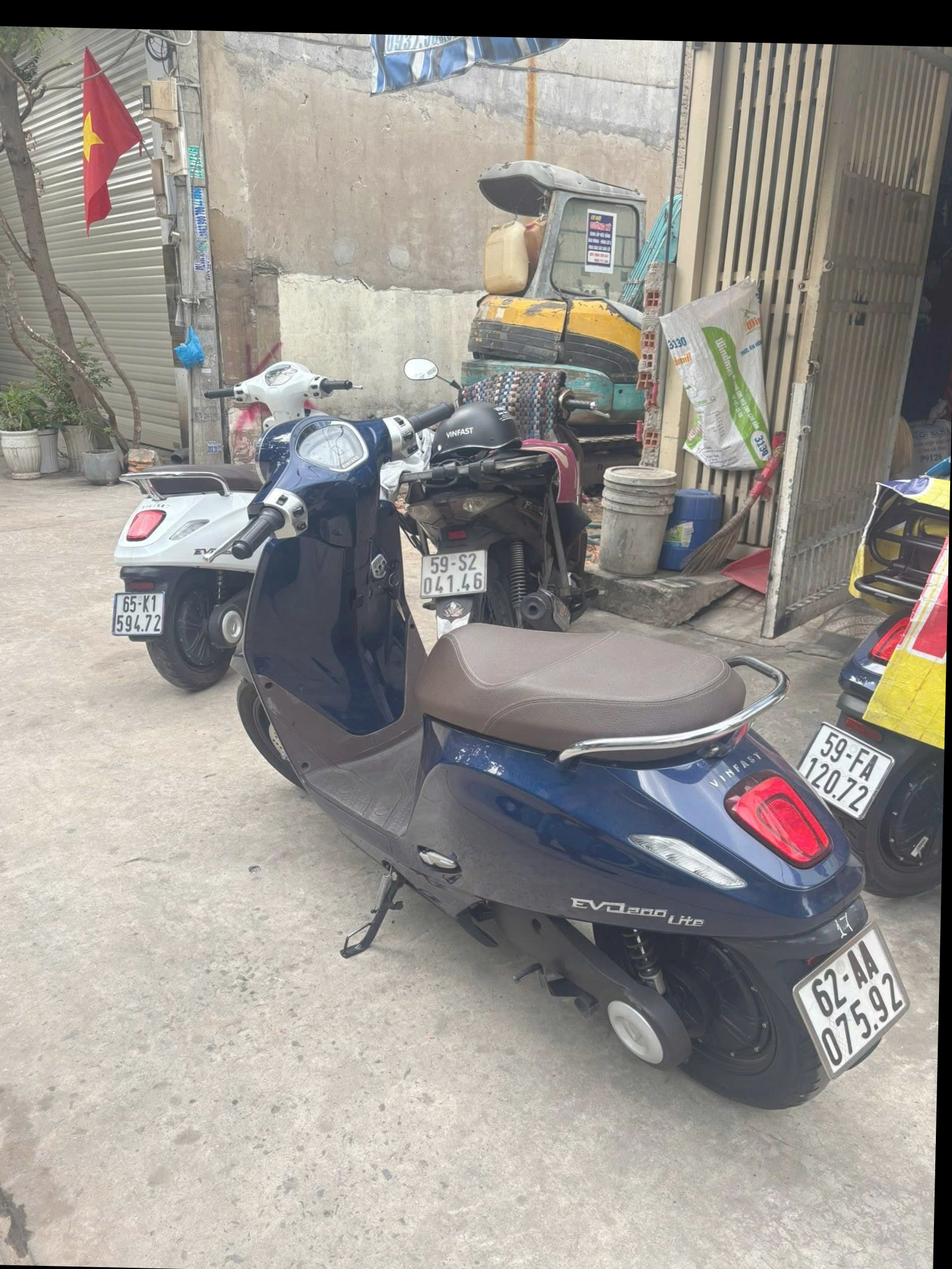Bien-so: (794, 916, 913, 1078), (802, 716, 895, 824), (419, 548, 491, 601), (113, 588, 161, 637)
